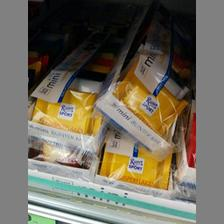Schokolade: (27, 43, 111, 146), (112, 23, 186, 138)
